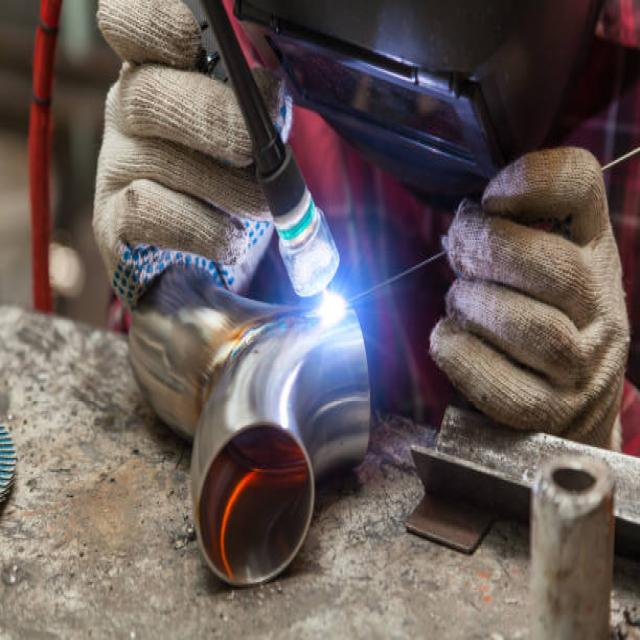welding: (309, 288, 350, 328)
